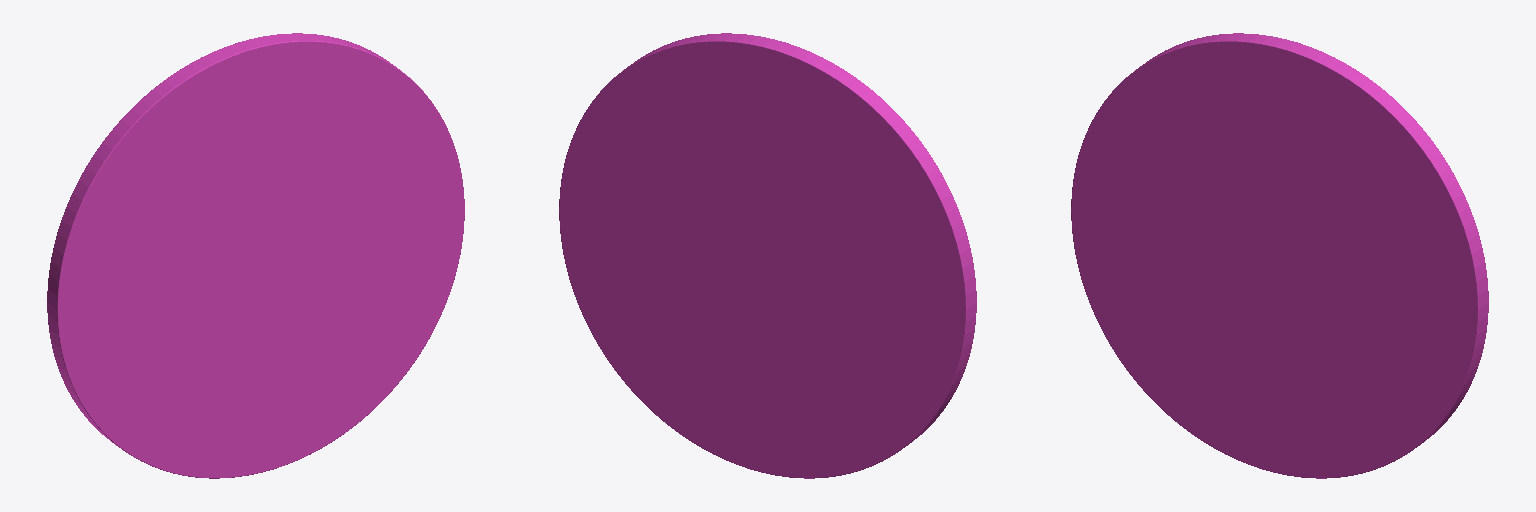
Rendered from round.obj.
3 renders of one model, left to right at view 1: azimuth 30°, elevation 25°; view 2: azimuth 150°, elevation 25°; view 3: azimuth 330°, elevation 25°, orthographic.
Visible parts, largest first — view 1: Studio_36_Painting_P02B; view 2: Studio_36_Painting_P02B; view 3: Studio_36_Painting_P02B.
Boxes of the visible parts, x1,y1,x2,y2 form: Studio_36_Painting_P02B: [47, 33, 464, 478]; Studio_36_Painting_P02B: [559, 33, 976, 478]; Studio_36_Painting_P02B: [1071, 33, 1488, 478].
Bounding box in the file's own units: 1100 × 1100 × 50.